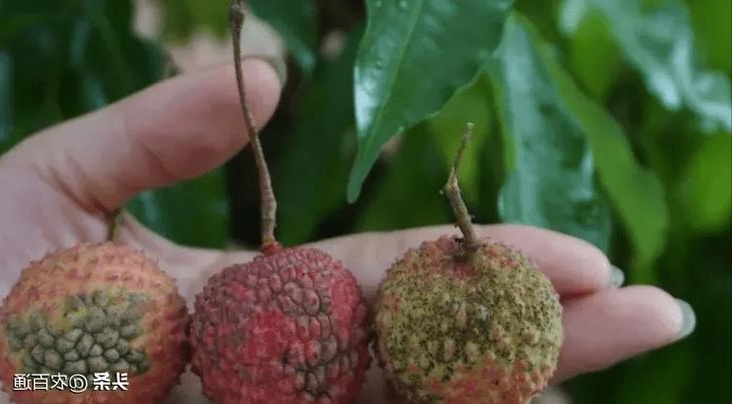Frost_Blight: (381, 239, 594, 372), (16, 281, 139, 386), (246, 257, 335, 382)
